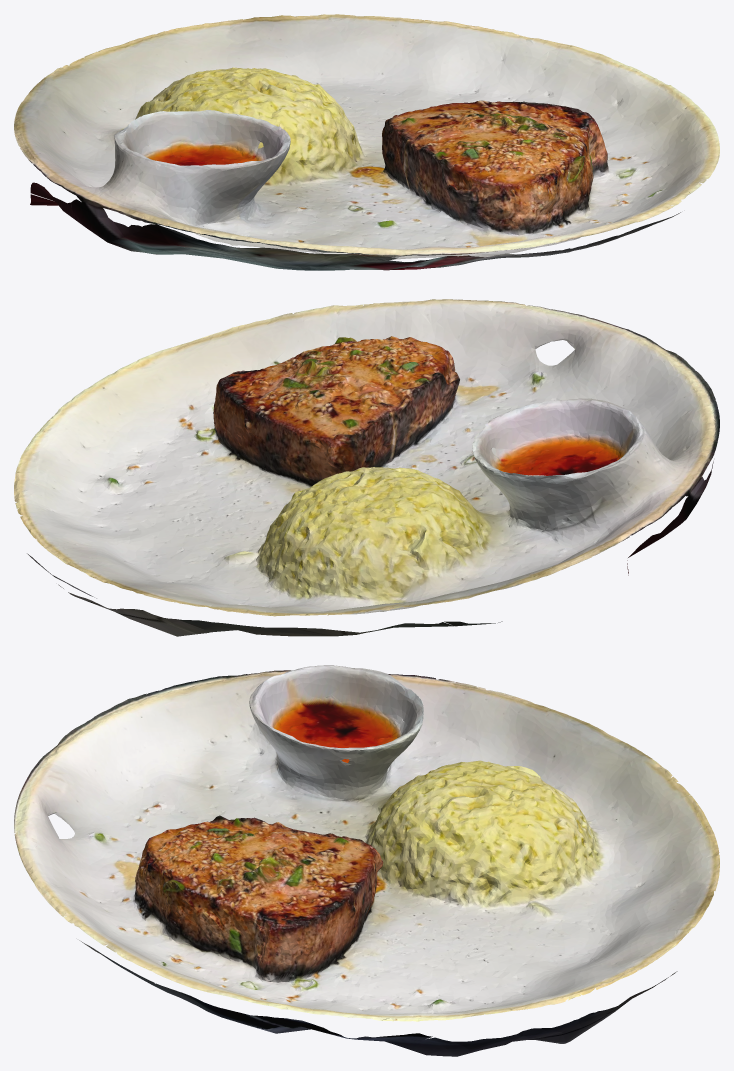
File: orez-cu-carne-nou.glb
3 renders of one model, top to bottom at view 1: azimuth 30°, elevation 25°; view 2: azimuth 150°, elevation 25°; view 3: azimuth 270°, elevation 25°, orthographic.
Bounding box in the file's own units: 0.2478 × 0.0617 × 0.2478.
1 material, 1 textured.
